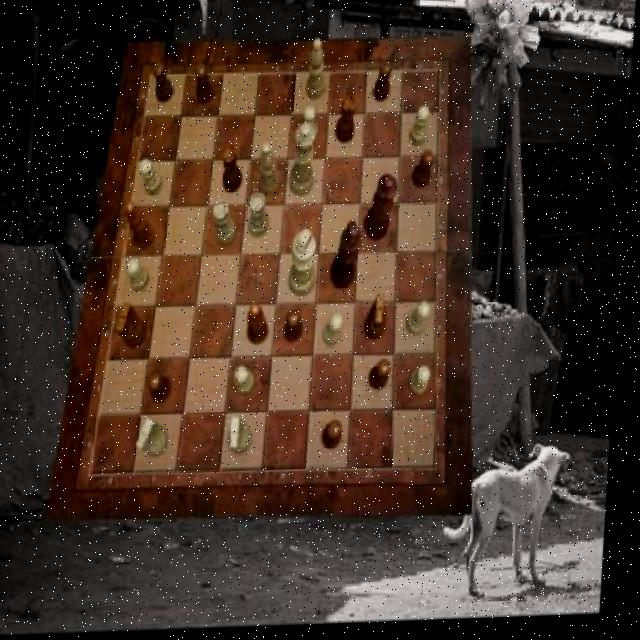bishop: (127, 202, 160, 251), (250, 305, 274, 348)
black-bishop: (333, 223, 367, 291)
black-king: (119, 303, 152, 349), (368, 297, 393, 344)
black-knight: (152, 62, 176, 103), (195, 64, 216, 106), (415, 153, 438, 190), (152, 374, 178, 406), (373, 65, 393, 106), (373, 361, 397, 393), (288, 312, 309, 347), (326, 423, 347, 451)
black-pawn: (366, 178, 402, 244)
black-queen: (223, 146, 248, 194), (337, 97, 358, 147)
black-rook: (307, 41, 329, 103), (261, 144, 284, 198)
white-bishop: (292, 231, 321, 299)
white-king: (140, 419, 174, 459), (234, 418, 259, 456)
white-knight: (141, 159, 167, 196), (410, 304, 435, 339), (129, 260, 154, 294), (411, 111, 431, 150), (302, 107, 320, 146), (413, 370, 437, 399), (238, 367, 260, 397), (328, 316, 348, 349)
white-pawn: (291, 125, 319, 199)
white-queen: (214, 200, 240, 247), (250, 193, 273, 239)
